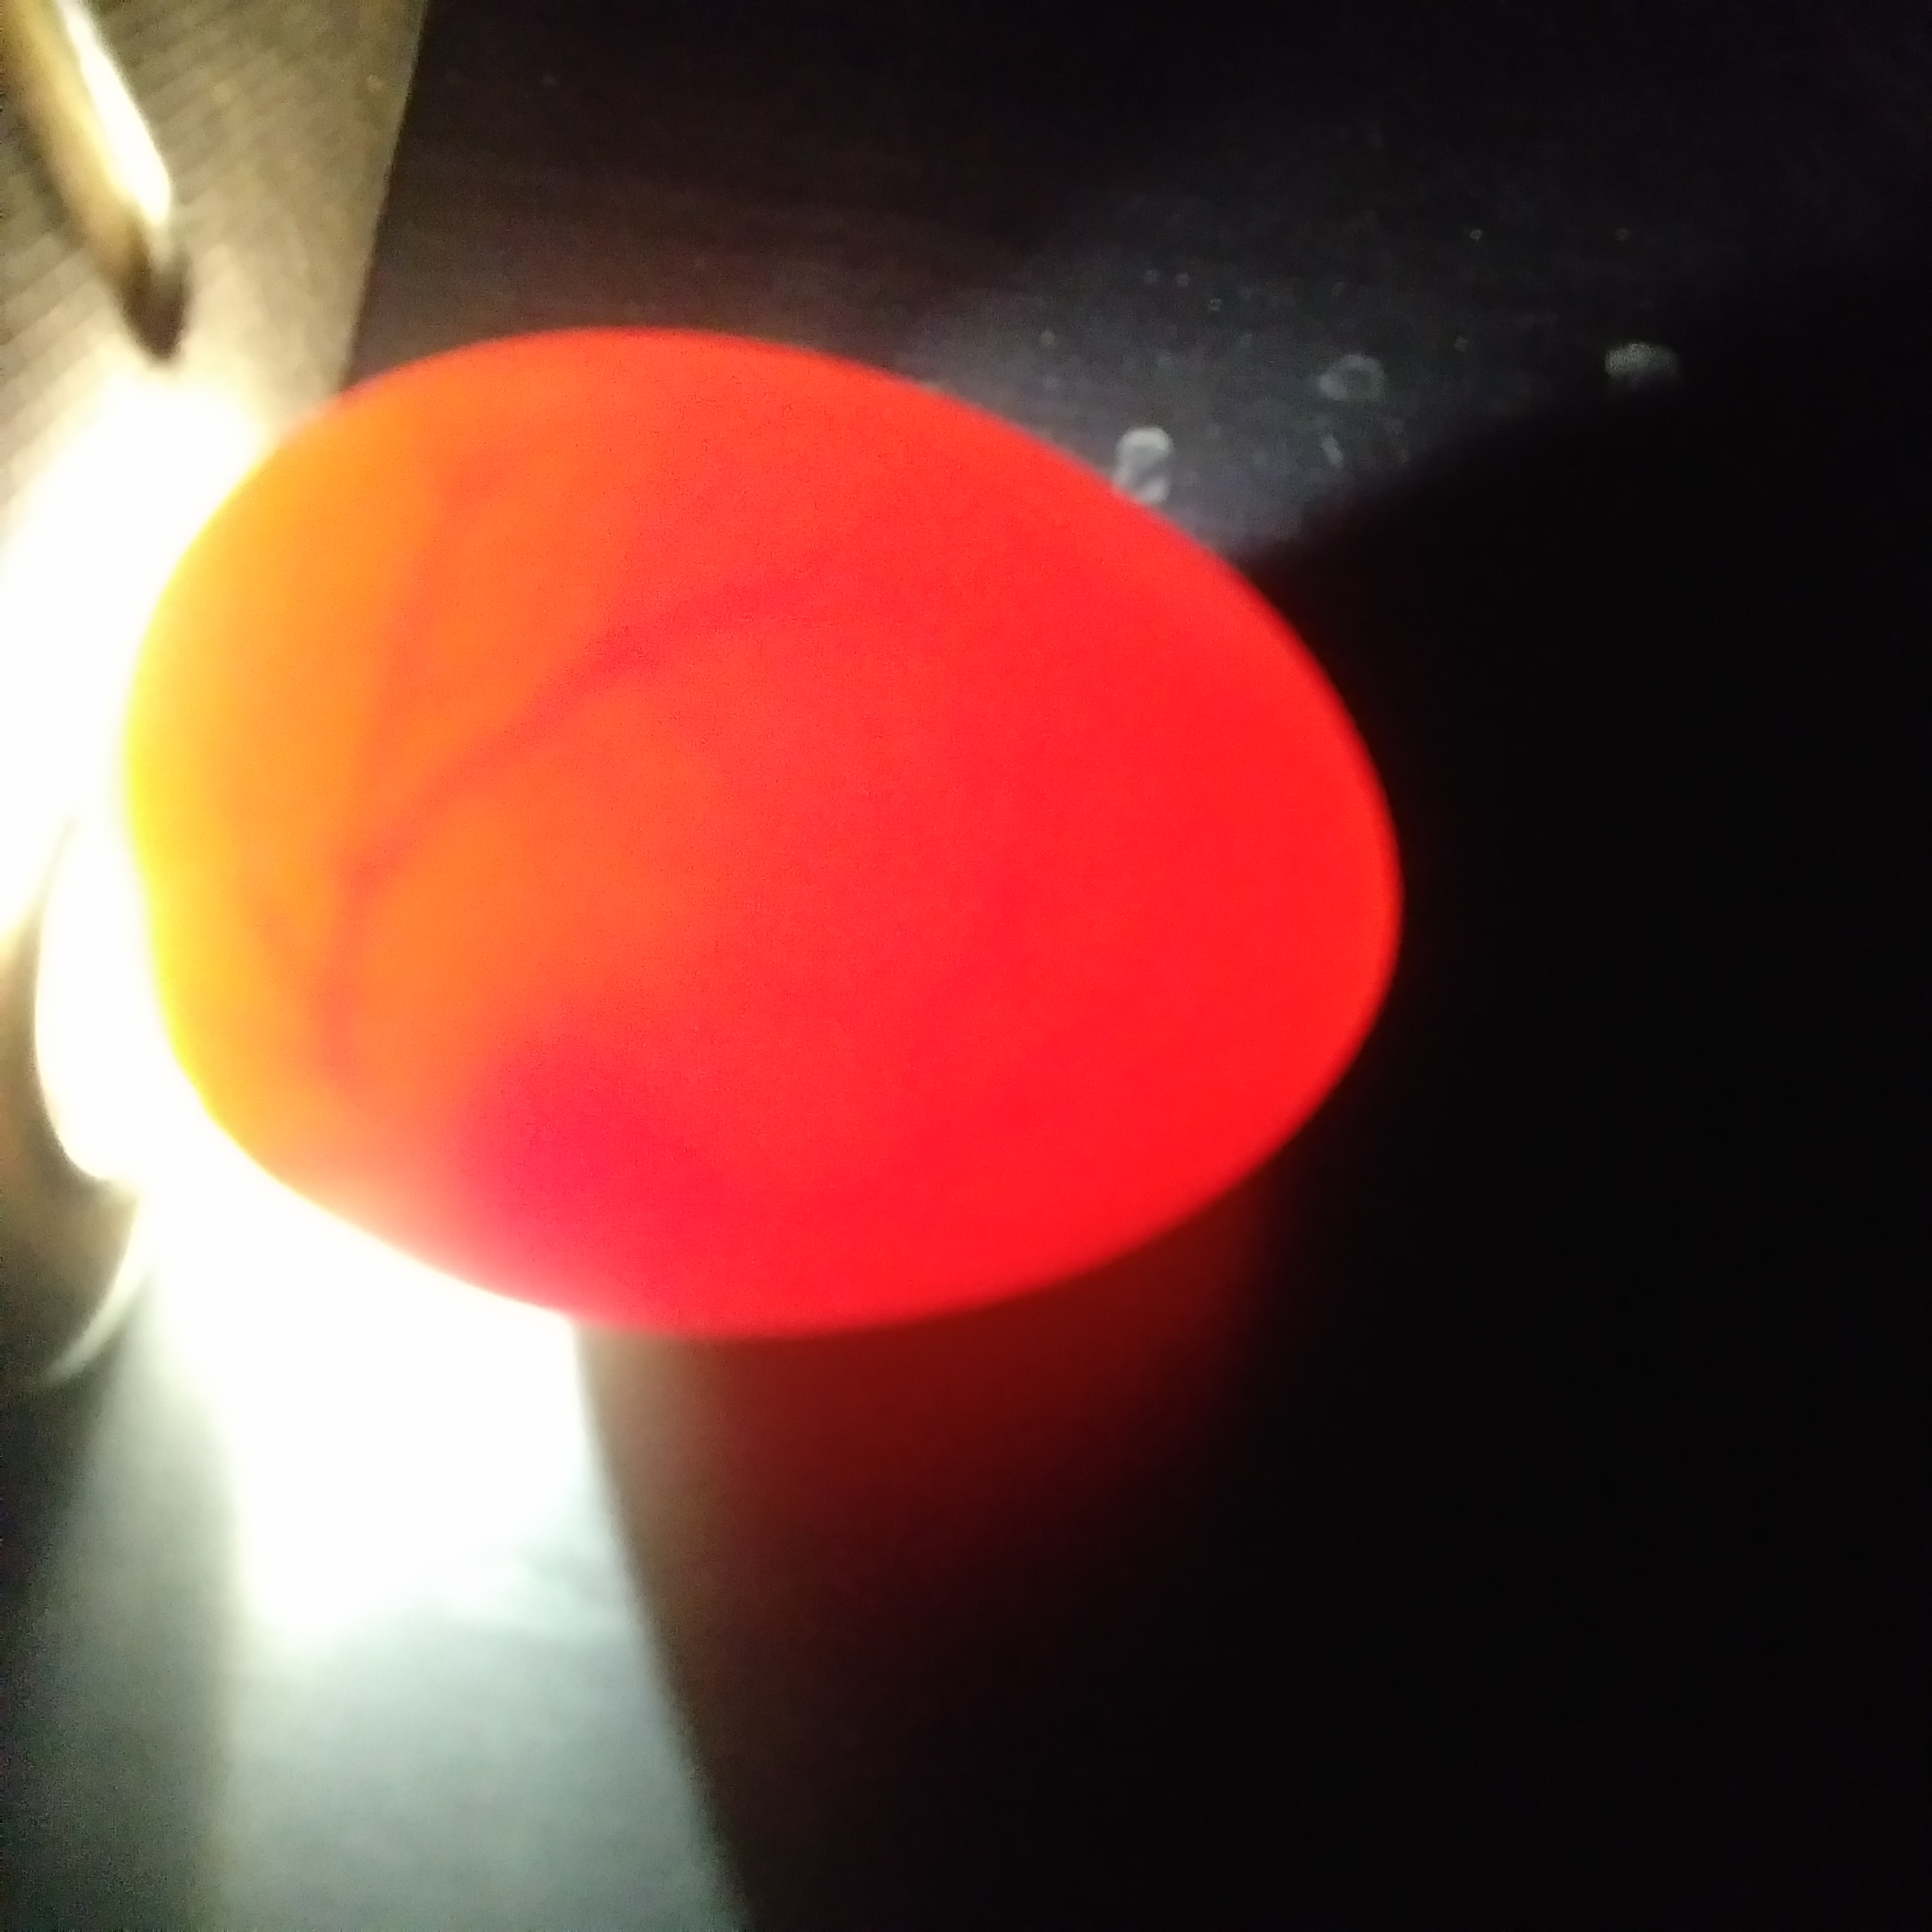bloodcell: (152, 713, 876, 970), (264, 502, 929, 683)
embryo: (366, 1039, 709, 1295)
